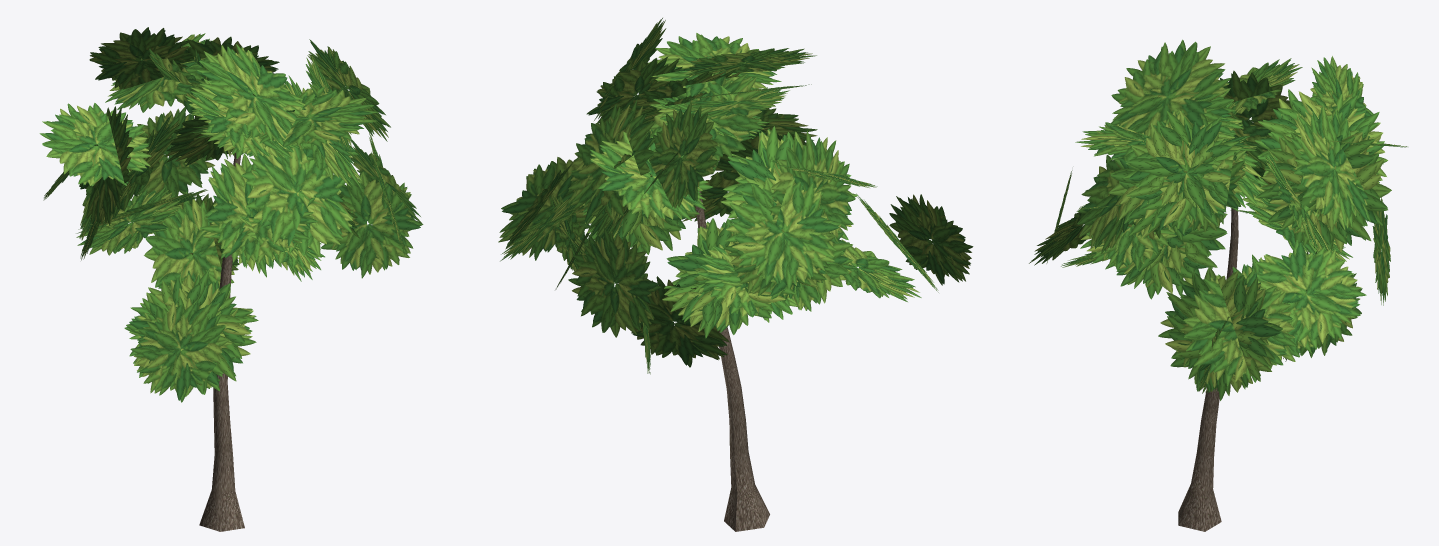
File: arvore_bl_b_lo.glb
3 views of the same model, side by side, from view 1: azimuth 30°, elevation 25°; view 2: azimuth 150°, elevation 25°; view 3: azimuth 270°, elevation 25° (orthographic). The views are drawn at different scales.
Parts seen in each view (by area): view 1: arvore_bl_b_lo; view 2: arvore_bl_b_lo; view 3: arvore_bl_b_lo.
Boxes of the visible parts, x1,y1,x2,y2 form: arvore_bl_b_lo: (39, 27, 423, 531); arvore_bl_b_lo: (498, 18, 973, 531); arvore_bl_b_lo: (1029, 39, 1407, 531).
Bounding box in the file's own units: 9.1 × 10.73 × 7.96.
Materials: 2 (2 with a texture image).
